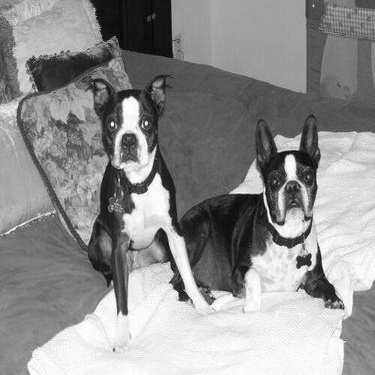dog: (78, 59, 219, 334), (166, 106, 349, 312)
